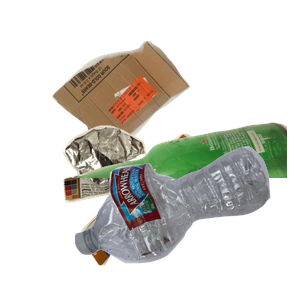cardboard: (50, 38, 233, 184)
glass: (60, 120, 300, 300)
plastic: (72, 144, 300, 300)
trash: (61, 123, 273, 300)
